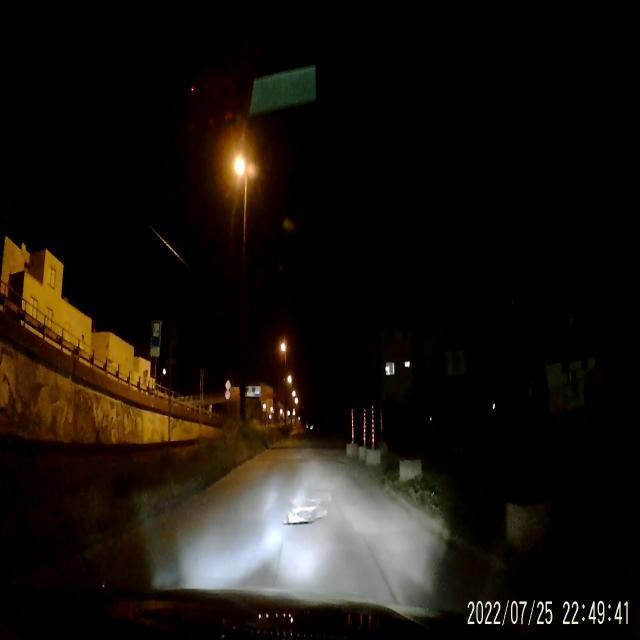Pothole: (280, 503, 332, 530)
